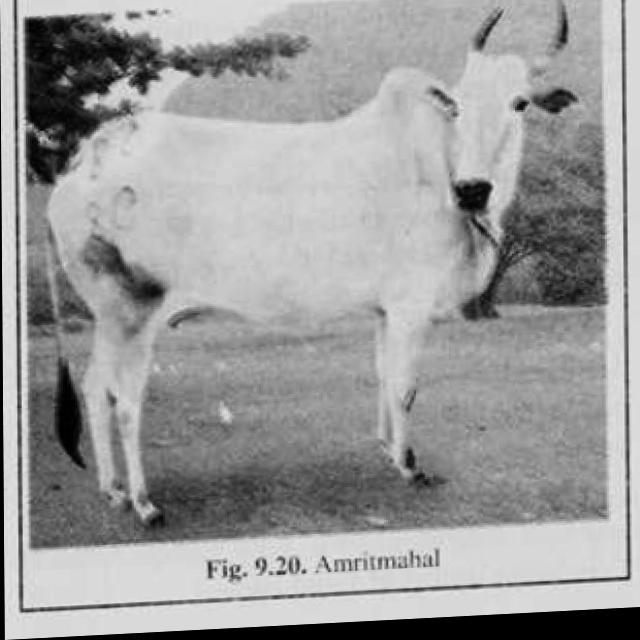Cow: (41, 0, 582, 531)
